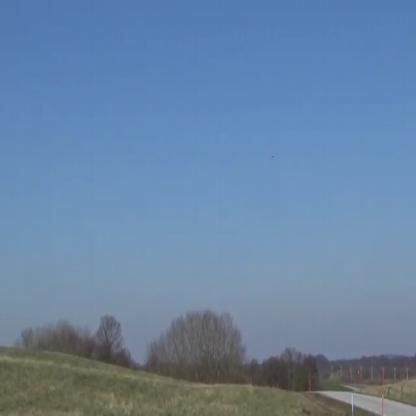plane: (269, 149, 279, 163)
